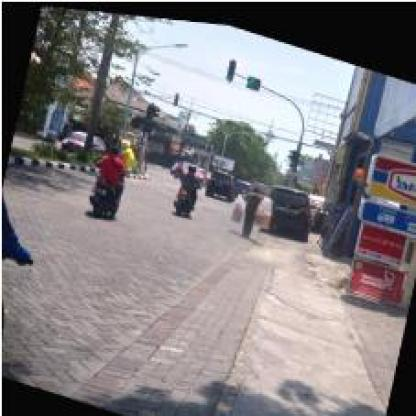green: (286, 140, 300, 164), (224, 53, 235, 75), (142, 102, 151, 122)
